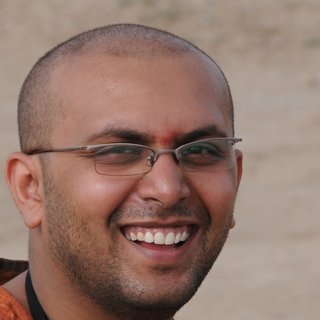eye: (178, 140, 224, 164)
